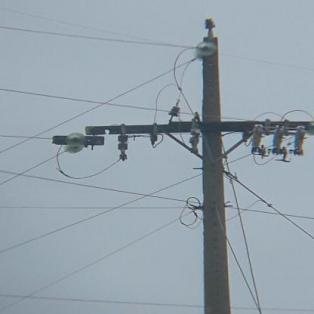Poste: (196, 34, 231, 314)
